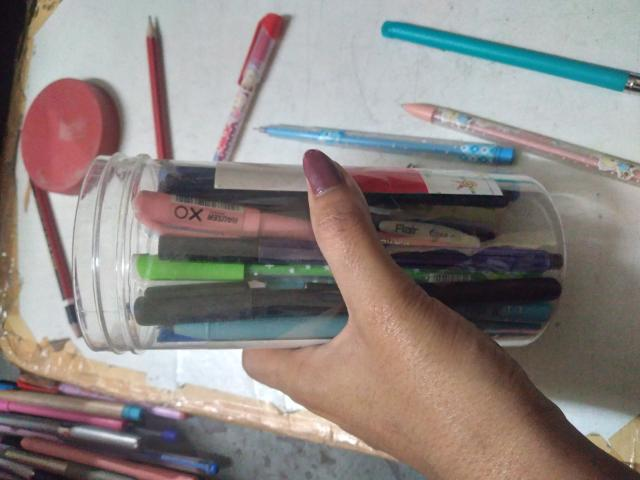PEN: (313, 257, 386, 480), (320, 206, 478, 294), (397, 385, 468, 480)
